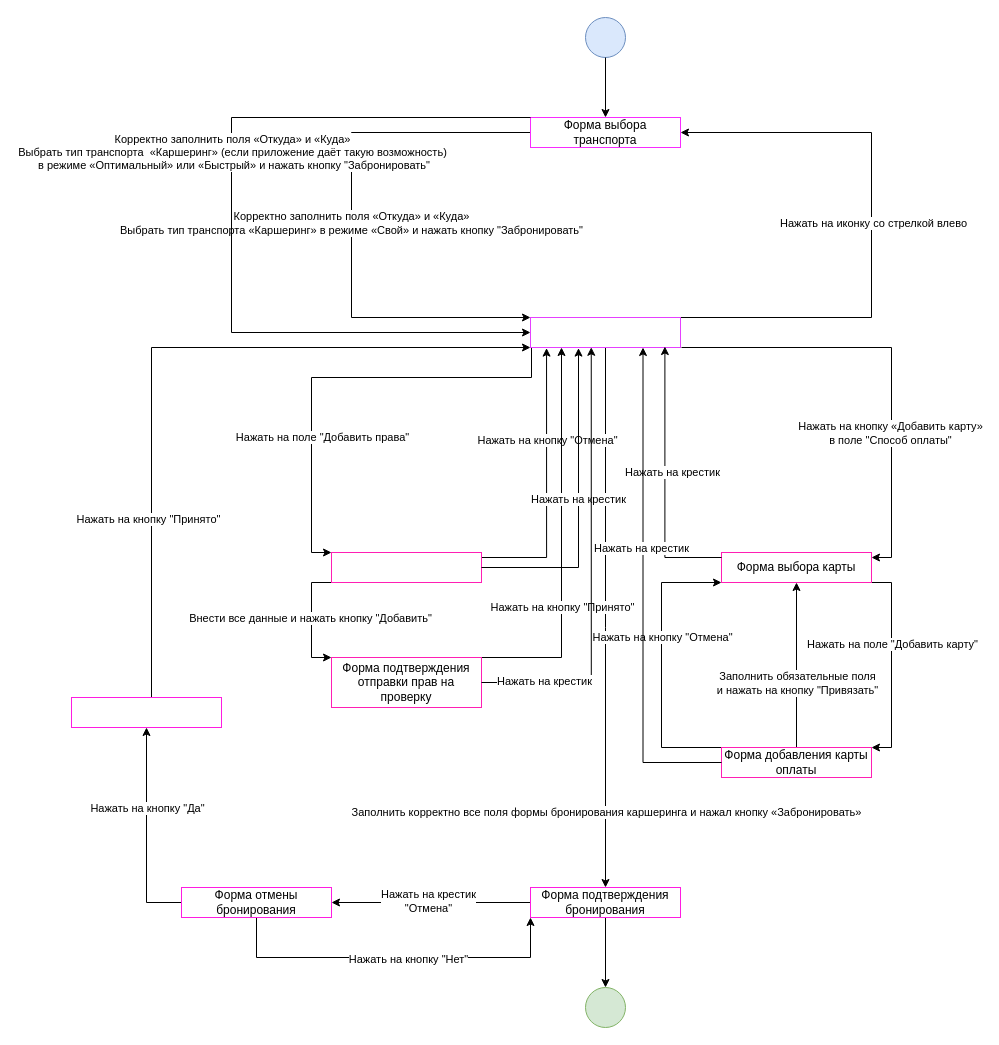
This 999x1045 diagram has some shape labels left out. The shapes that lost their labels are listed below. From the top down, each one's centre as x and y in pixels, then its label:
At (605,332): "Форма бронирования каршеринга".
At (406,567): "Форма добавления прав".
At (146,712): "Форма подтверждения отмены поездки".
